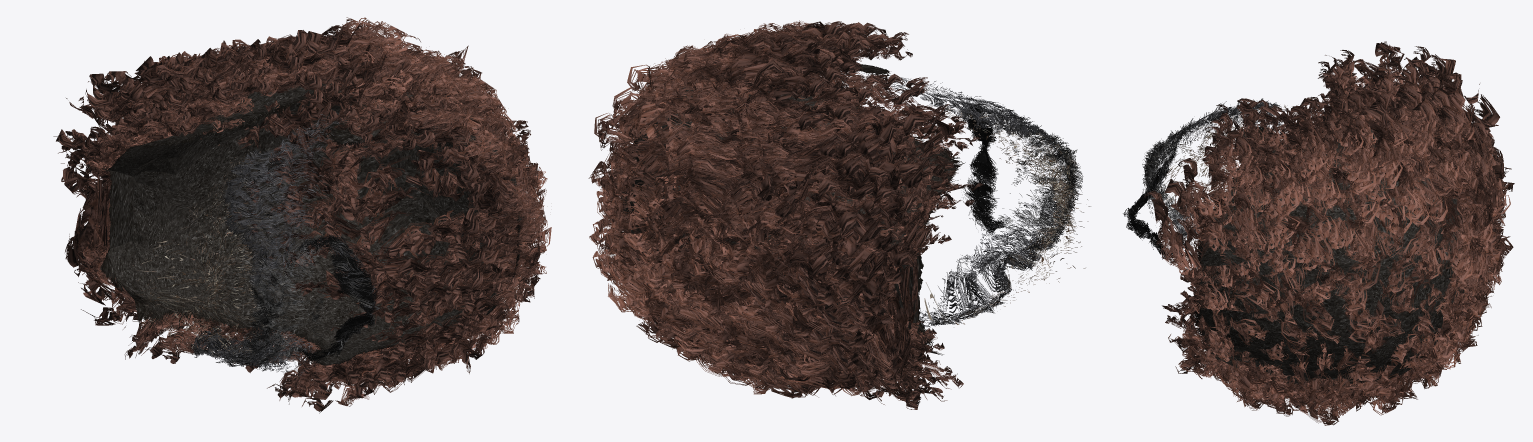
File: kopf.glb
The picture shows the model from 3 angles, left to right: view 1: azimuth 30°, elevation 25°; view 2: azimuth 150°, elevation 25°; view 3: azimuth 270°, elevation 25°; orthographic projection. The views are drawn at different scales.
Parts seen in each view (by area): view 1: haar_locken, haar_kopfhaut, bart_Chin_Curtain_Sparse, bart_Stubble_Neck, bart_Mustache_Horseshoe; view 2: haar_locken, bart_Chin_Curtain_Sparse, haar_kopfhaut, bart_Stubble_Neck, bart_Mustache_Horseshoe; view 3: haar_locken, haar_kopfhaut, bart_Chin_Curtain_Sparse, bart_Mustache_Horseshoe, bart_Stubble_Neck.
Part boxes in pixels (x1,y1,x2,y2): haar_locken: (53, 17, 551, 413); haar_kopfhaut: (100, 71, 523, 365); bart_Chin_Curtain_Sparse: (190, 112, 348, 376); bart_Stubble_Neck: (132, 143, 270, 356); bart_Mustache_Horseshoe: (283, 233, 379, 363); haar_locken: (588, 20, 983, 409); bart_Chin_Curtain_Sparse: (858, 71, 1083, 327); haar_kopfhaut: (621, 62, 965, 355); bart_Stubble_Neck: (924, 100, 1090, 324); bart_Mustache_Horseshoe: (963, 103, 1021, 235); haar_locken: (1144, 41, 1514, 425); haar_kopfhaut: (1194, 99, 1464, 389); bart_Chin_Curtain_Sparse: (1142, 98, 1282, 265); bart_Mustache_Horseshoe: (1123, 143, 1184, 265); bart_Stubble_Neck: (1155, 99, 1288, 214).
Bounding box in the file's own units: 0.2952 × 0.2226 × 0.2598.
Materials: 5 (5 with a texture image).
